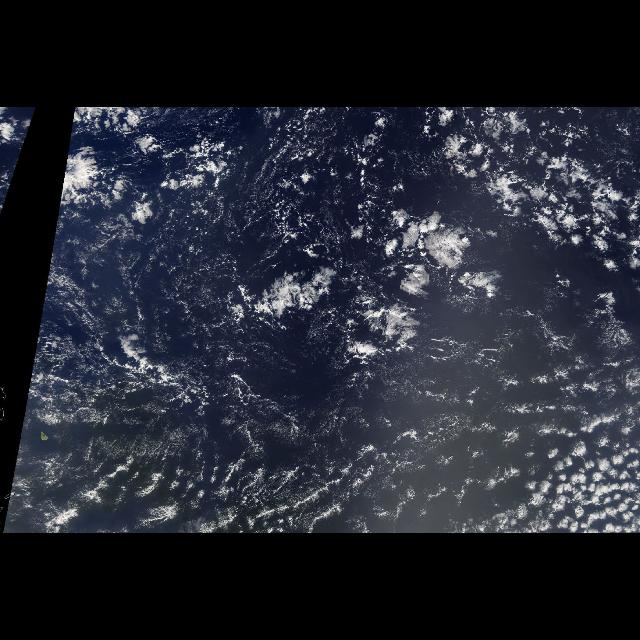Flower: (492, 438, 640, 534)
Gravel: (212, 116, 384, 272)
